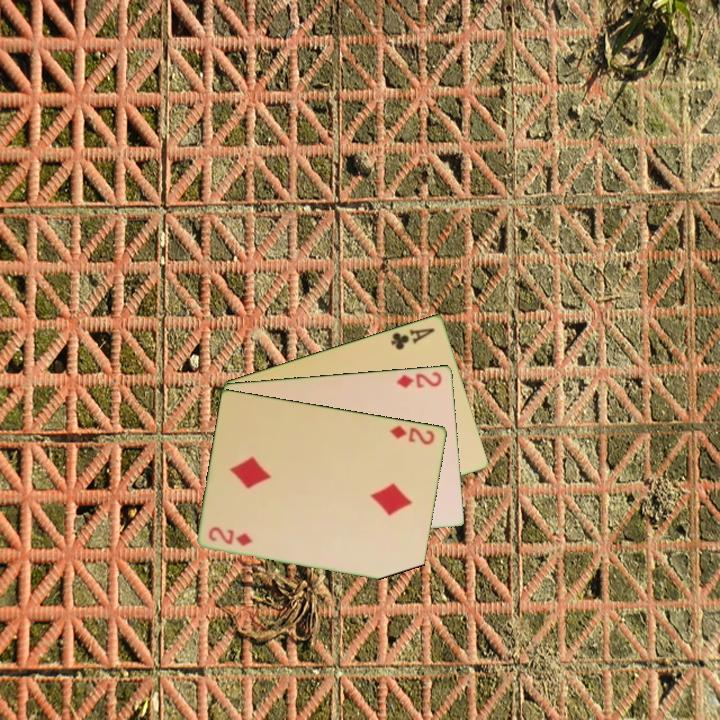2d: (387, 422, 438, 447), (205, 524, 255, 549), (394, 368, 445, 391)
Ac: (387, 324, 438, 352)
